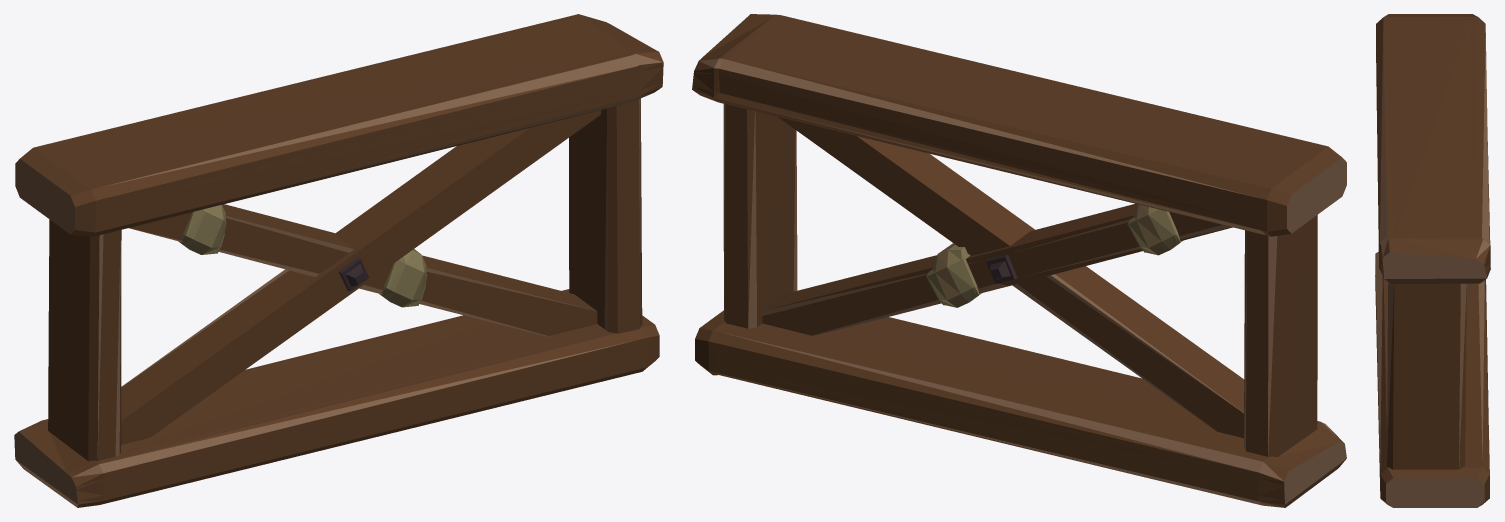
File: MCastle_FenceWood_02.FBX
3 renders of one model, left to right at view 1: azimuth 30°, elevation 25°; view 2: azimuth 150°, elevation 25°; view 3: azimuth 270°, elevation 25°, orthographic. The views are drawn at different scales.
Parts seen in each view (by area): view 1: MCastle_FenceWood_02_LOD0; view 2: MCastle_FenceWood_02_LOD0; view 3: MCastle_FenceWood_02_LOD0.
Boxes of the visible parts, x1,y1,x2,y2 form: MCastle_FenceWood_02_LOD0: (14,14,663,507); MCastle_FenceWood_02_LOD0: (692,14,1346,507); MCastle_FenceWood_02_LOD0: (1375,14,1490,507).
Size of what is drawn, in the model's own units: 2.28 by 1.18 by 0.4688.
